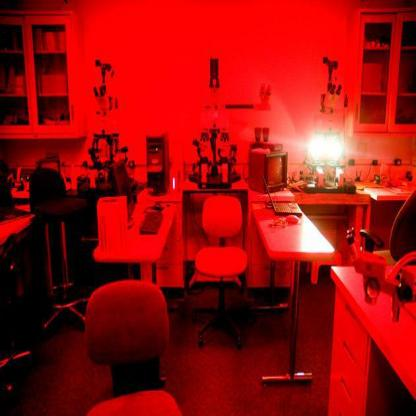other: (301, 130, 348, 166)
